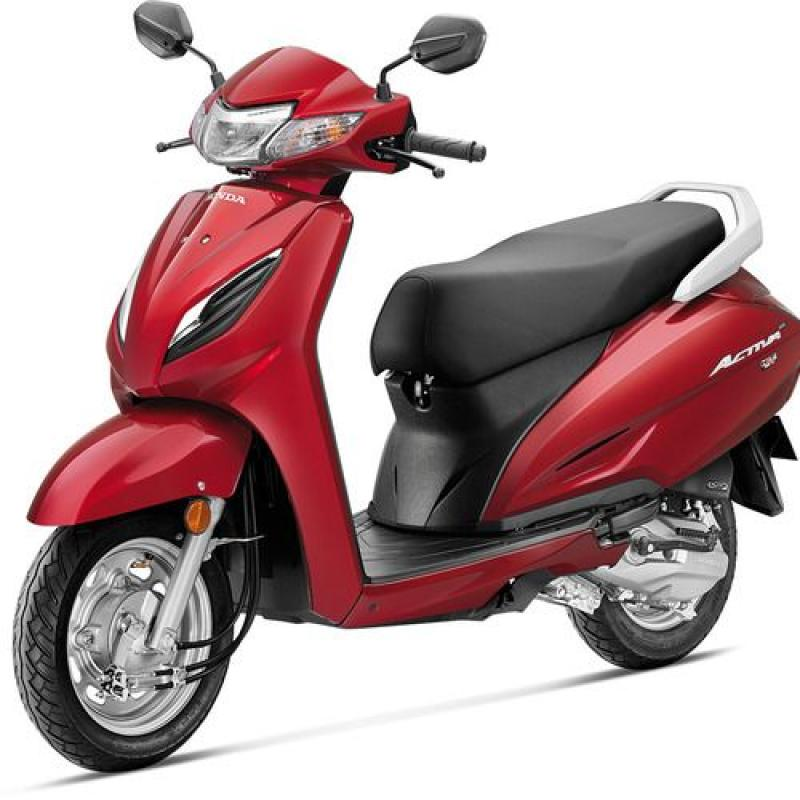bike: (11, 6, 793, 787)
